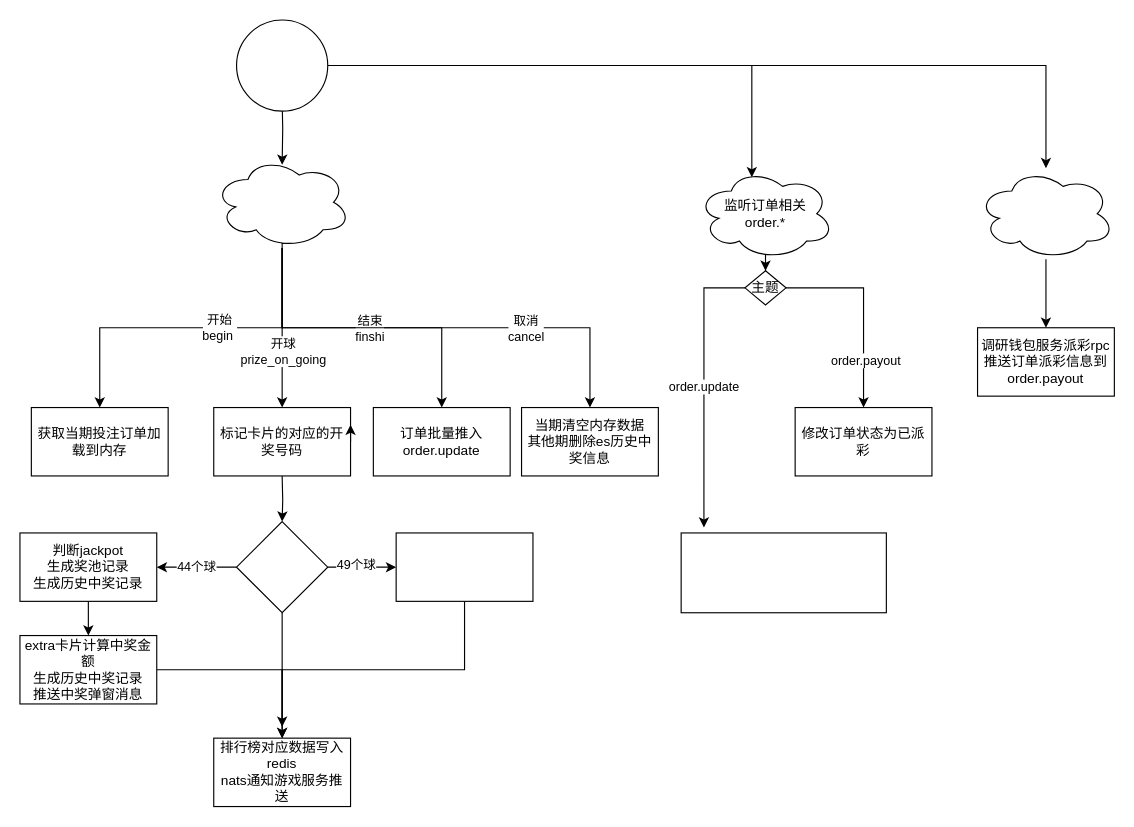
Some shapes in this 1134 by 827 pixel diagram are drawn without their labels. The centre of each missing label's shape, as x and y in pixels:
"判断bingo 生成奖池记录 推送中奖弹窗信息" belongs at (x=464, y=566).
"判断开奖球数" belongs at (x=281, y=566).
"更新订单状态为已结算 生成派彩请求推送到payout.pay 推送奖池修改信息到prizePool游戏服务处理 如果未中奖直接更新为已派彩" belongs at (x=783, y=572).
"监听奖源 WS.game.event 获取奖源事件" belongs at (x=282, y=202).
"监听派彩相关 payout.*" belongs at (x=1045, y=213).
"结算服务启动" belongs at (x=281, y=65).
